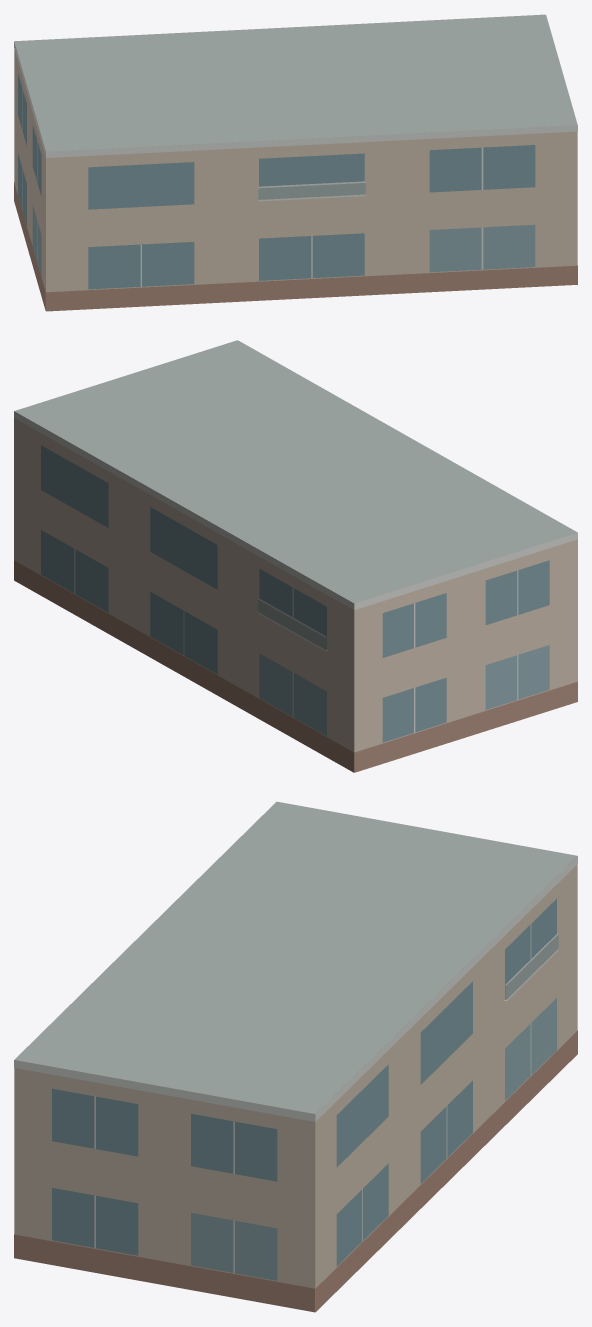
File: survey-upis-32831757.glb
3 views of the same model, one above another, from view 1: azimuth 30°, elevation 25°; view 2: azimuth 150°, elevation 25°; view 3: azimuth 270°, elevation 25° (orthographic). The views are drawn at different scales.
Visible parts, largest first — view 1: survey-upis-32831757.tmp; view 2: survey-upis-32831757.tmp; view 3: survey-upis-32831757.tmp.
Part boxes in pixels (box(x1,y1,x2,y2)): survey-upis-32831757.tmp: box(14, 14, 577, 311); survey-upis-32831757.tmp: box(14, 340, 577, 772); survey-upis-32831757.tmp: box(14, 801, 577, 1312).
Size of the model in its own units: 20.63 by 6.1 by 15.73.
